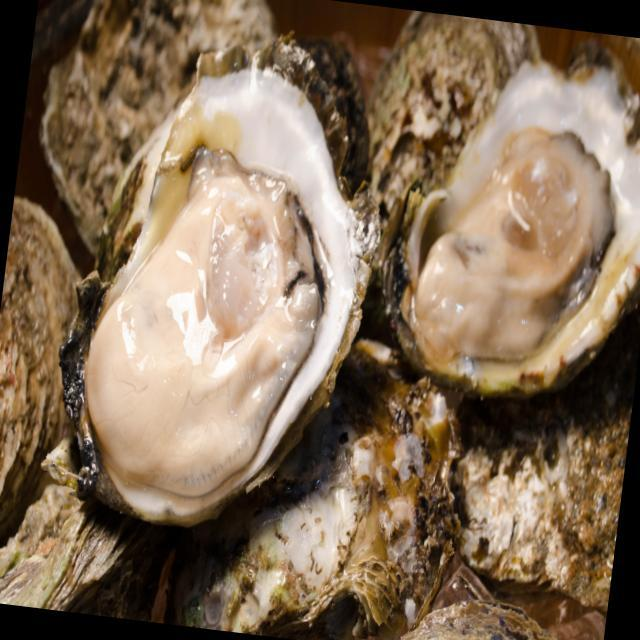Oyster- Indeterminate: (137, 326, 544, 640), (438, 339, 637, 608), (0, 473, 181, 640), (0, 196, 86, 495)
Oyster-Open: (7, 6, 447, 568)
